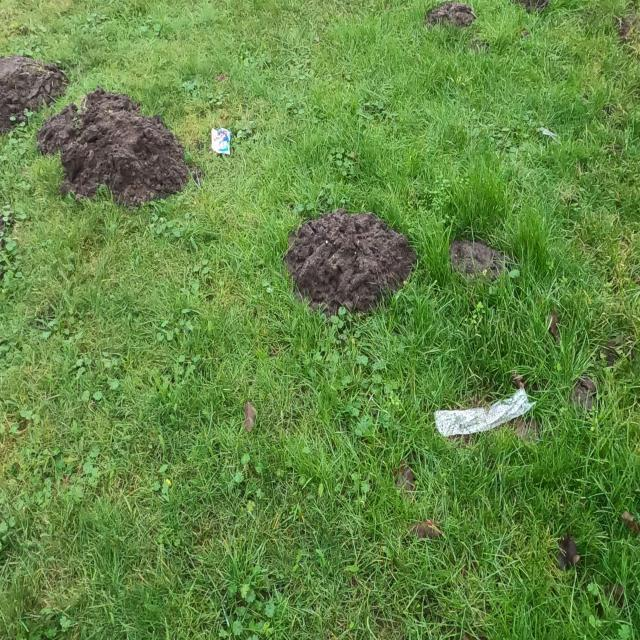Paper: (431, 386, 538, 440)
